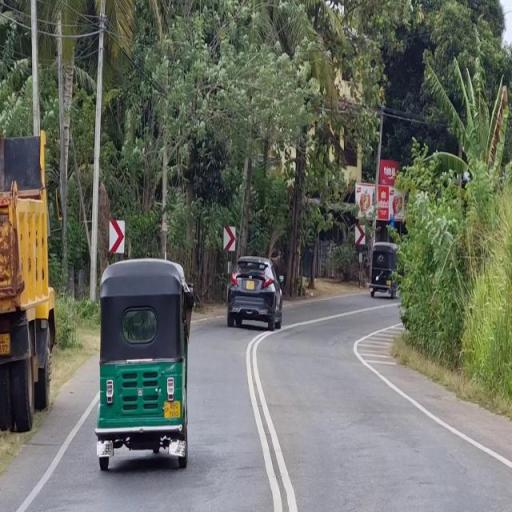double_white_line: (357, 328, 512, 472), (14, 392, 96, 511), (245, 329, 293, 512)
